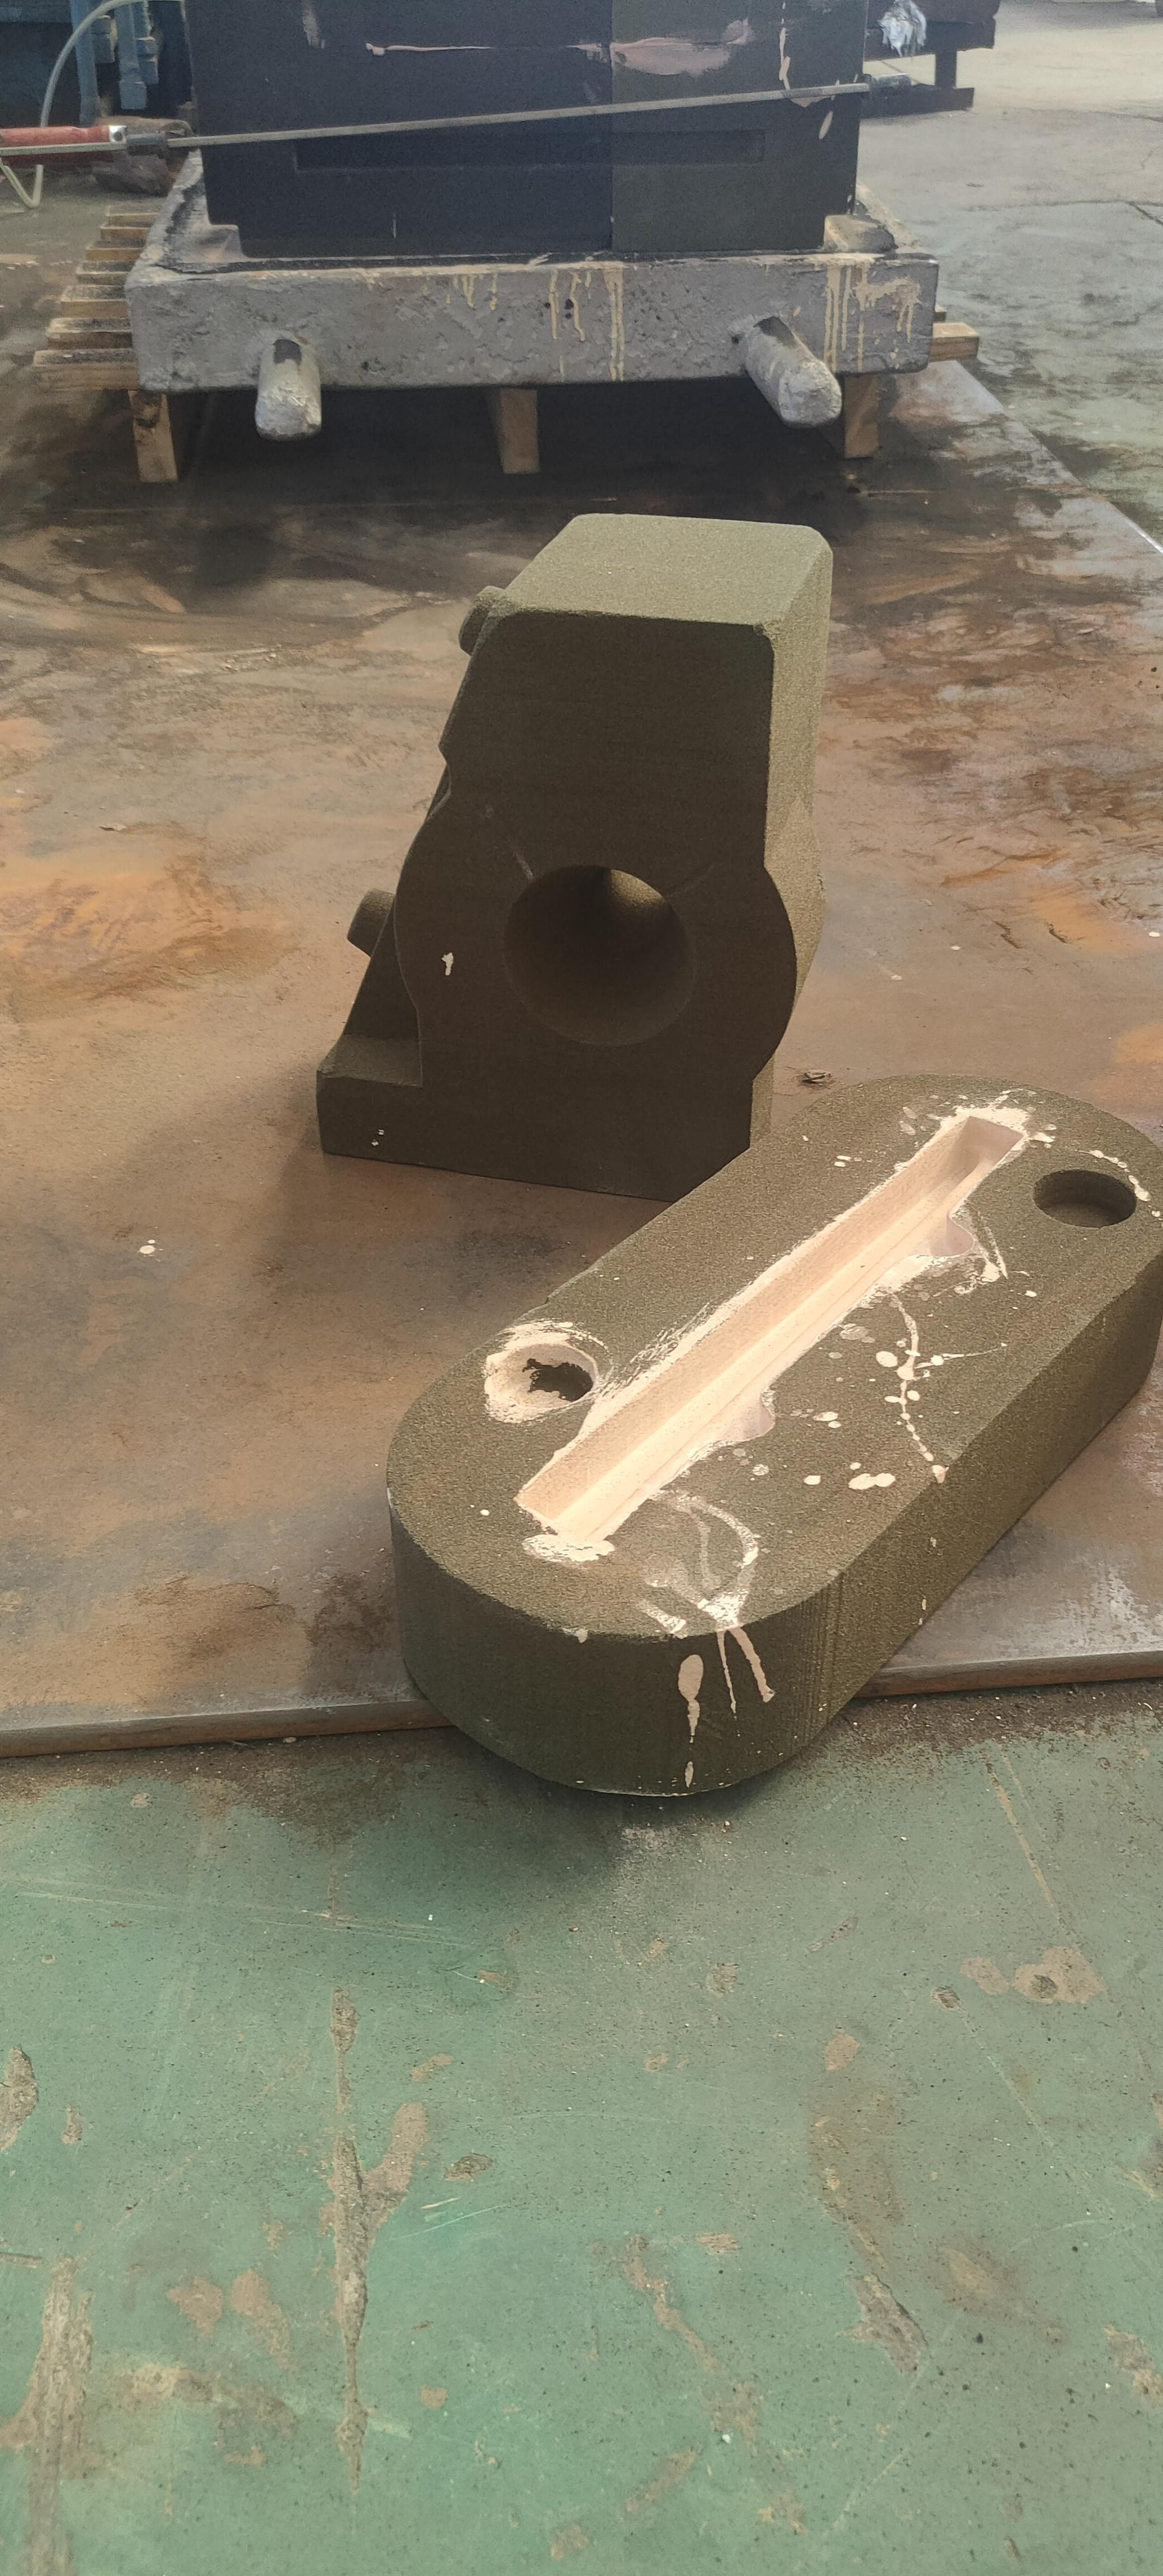pouring hole: (501, 864, 696, 1046)
